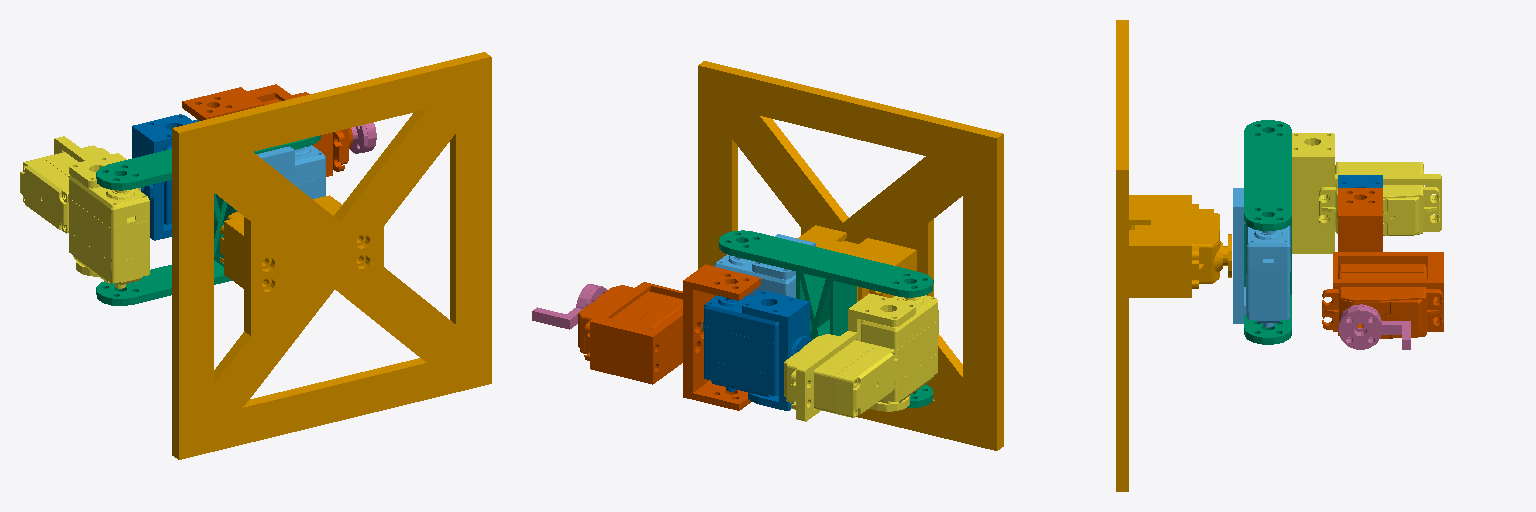
URDF robot description (my_arm):
<?xml version="1.0"?>
<robot name="my_arm">

  <link name="link0_base">
    <visual>
      <origin xyz="0 0 0" rpy="0 0 0"/>
      <geometry><mesh filename="meshes/link0_base.STL"/></geometry>
    </visual>
  </link>
  <link name="link1_yaw">
    <visual>
      <origin xyz="0 0 0" rpy="0 0 0"/>
      <geometry><mesh filename="meshes/link1_yaw.STL"/></geometry>
    </visual>
  </link>
  <link name="link2_arm">
    <visual>
      <origin xyz="0 0 0" rpy="0 0 0"/>
      <geometry><mesh filename="meshes/link2_arm.STL"/></geometry>
    </visual>
  </link>
  <link name="link3_fore">
    <visual>
      <origin xyz="0 0 0" rpy="0 0 0"/>
      <geometry><mesh filename="meshes/link3_fore.STL"/></geometry>
    </visual>
  </link>
  <link name="link4_roll">
    <visual>
      <origin xyz="0 0 0" rpy="0 0 0"/>
      <geometry><mesh filename="meshes/link4_roll.STL"/></geometry>
    </visual>
  </link>
  <link name="link5_wrist">
    <visual>
      <origin xyz="0 0 0" rpy="0 0 0"/>
      <geometry><mesh filename="meshes/link5_wrist.STL"/></geometry>
    </visual>
  </link>
  <link name="link6_roll">
    <visual>
      <origin xyz="0 0 0" rpy="0 0 0"/>
      <geometry><mesh filename="meshes/link6_roll.STL"/></geometry>
    </visual>
  </link>
  <joint name="joint1_yaw" type="revolute">
    <parent link="link0_base"/>
    <child link="link1_yaw"/>
    <origin xyz="0.0000 52.8000 0.0000" rpy="0 0 0"/>
    <axis xyz="0 1 0"/>
    <limit lower="-3.1416" upper="3.1416" effort="10" velocity="3"/>
  </joint>
  <joint name="joint2_arm" type="revolute">
    <parent link="link1_yaw"/>
    <child link="link2_arm"/>
    <origin xyz="20.0000 16.2000 26.6000" rpy="0 0 0"/>
    <axis xyz="0 0 -1"/>
    <limit lower="-0.0524" upper="2.6180" effort="10" velocity="3"/>
  </joint>
  <joint name="joint3_fore" type="revolute">
    <parent link="link2_arm"/>
    <child link="link3_fore"/>
    <origin xyz="-90.0000 0.0000 0.0000" rpy="0 0 0"/>
    <axis xyz="0 0 1"/>
    <limit lower="-0.0524" upper="2.6180" effort="10" velocity="3"/>
  </joint>
  <joint name="joint4_roll" type="revolute">
    <parent link="link3_fore"/>
    <child link="link4_roll"/>
    <origin xyz="35.4000 41.6000 -26.6000" rpy="0 0 0"/>
    <axis xyz="-1 0 0"/>
    <limit lower="-3.1416" upper="3.1416" effort="10" velocity="3"/>
  </joint>
  <joint name="joint5_wrist" type="revolute">
    <parent link="link4_roll"/>
    <child link="link5_wrist"/>
    <origin xyz="36.2000 0.0000 25.5000" rpy="0 0 0"/>
    <axis xyz="0 0 1"/>
    <limit lower="-2.0944" upper="2.0944" effort="10" velocity="3"/>
  </joint>
  <joint name="joint6_roll" type="revolute">
    <parent link="link5_wrist"/>
    <child link="link6_roll"/>
    <origin xyz="73.2000 0.0000 -25.5000" rpy="0 0 0"/>
    <axis xyz="1 0 0"/>
    <limit lower="-3.1416" upper="3.1416" effort="10" velocity="3"/>
  </joint>
</robot>

--- Facts derived from the render (not from the file) ---
3 views of the same robot in one strip: view 1: azimuth 30°, elevation 25°; view 2: azimuth 150°, elevation 25°; view 3: azimuth 270°, elevation 25° (orthographic).
Model my_arm with 7 links and 6 joints (6 revolute), rooted at link0_base, posed all joints at 0.
Links seen in each view (by area): view 1: link0_base, link3_fore, link2_arm, link5_wrist, link4_roll, link1_yaw, link6_roll; view 2: link0_base, link3_fore, link5_wrist, link4_roll, link2_arm, link1_yaw, link6_roll; view 3: link0_base, link5_wrist, link3_fore, link2_arm, link1_yaw, link6_roll, link4_roll.
Link boxes in pixels (x1=…): link0_base: x1=172, y1=52, x2=491, y2=459; link3_fore: x1=20, y1=136, x2=149, y2=288; link2_arm: x1=96, y1=135, x2=320, y2=305; link5_wrist: x1=182, y1=84, x2=352, y2=176; link4_roll: x1=132, y1=114, x2=198, y2=240; link1_yaw: x1=257, y1=145, x2=325, y2=198; link6_roll: x1=350, y1=122, x2=376, y2=153; link0_base: x1=698, y1=61, x2=1003, y2=450; link3_fore: x1=784, y1=293, x2=938, y2=421; link5_wrist: x1=578, y1=264, x2=760, y2=410; link4_roll: x1=703, y1=291, x2=811, y2=410; link2_arm: x1=719, y1=230, x2=933, y2=407; link1_yaw: x1=714, y1=234, x2=815, y2=297; link6_roll: x1=532, y1=284, x2=606, y2=329; link0_base: x1=1116, y1=20, x2=1231, y2=491; link5_wrist: x1=1322, y1=188, x2=1443, y2=338; link3_fore: x1=1292, y1=133, x2=1441, y2=253; link2_arm: x1=1244, y1=120, x2=1291, y2=344; link1_yaw: x1=1233, y1=188, x2=1290, y2=327; link6_roll: x1=1338, y1=304, x2=1410, y2=349; link4_roll: x1=1338, y1=175, x2=1382, y2=187.
Size in the robot's own frame: 176 by 148 by 160 metres.
7 mesh visuals loaded from 7 distinct referenced files (7 binary STL).
